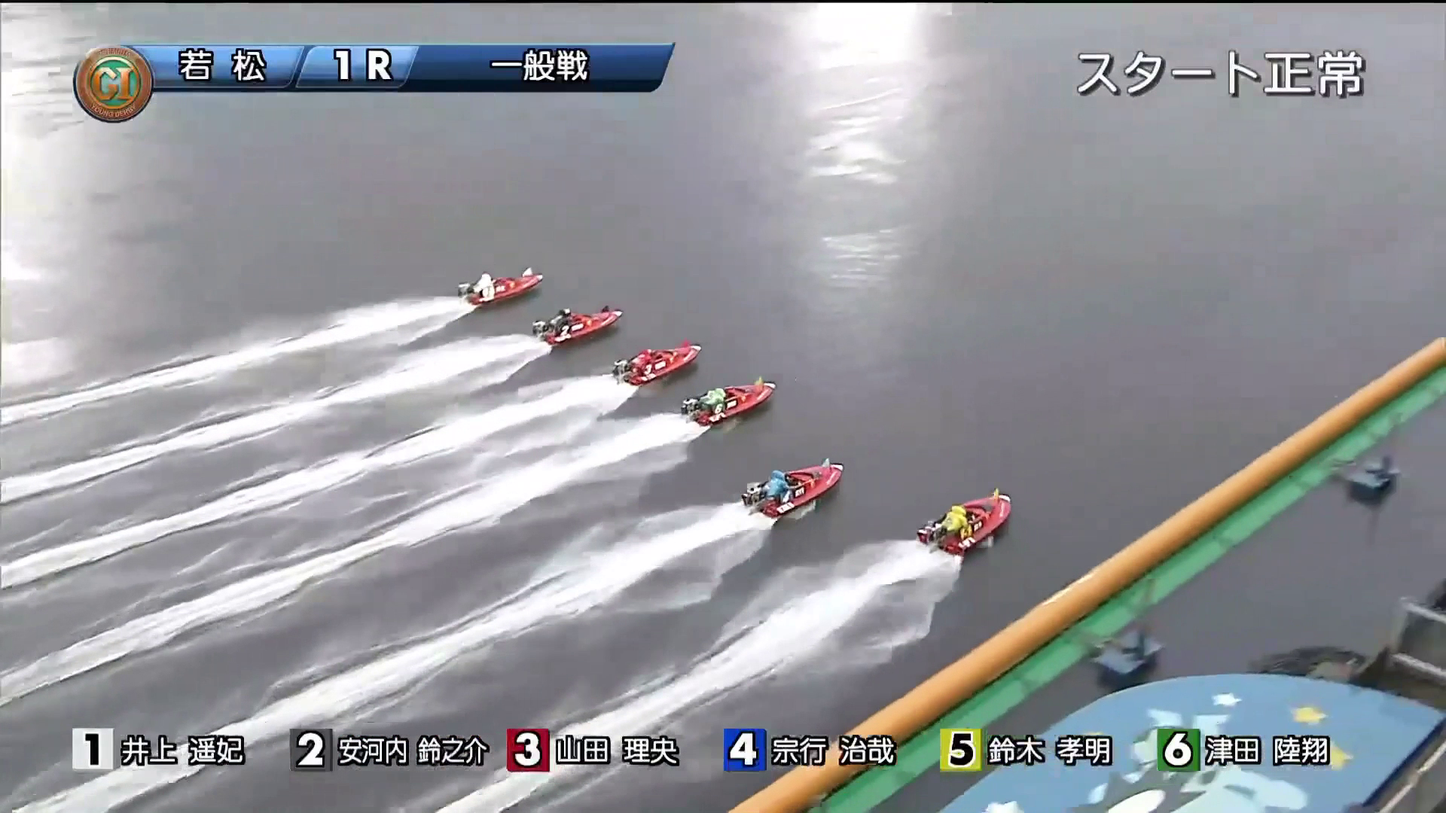１号艇: (976, 362, 1052, 401)
２号艇: (682, 322, 771, 359)
３号艇: (677, 356, 768, 397)
４号艇: (675, 394, 780, 437)
５号艇: (623, 444, 744, 499)
６号艇: (706, 492, 806, 549)
